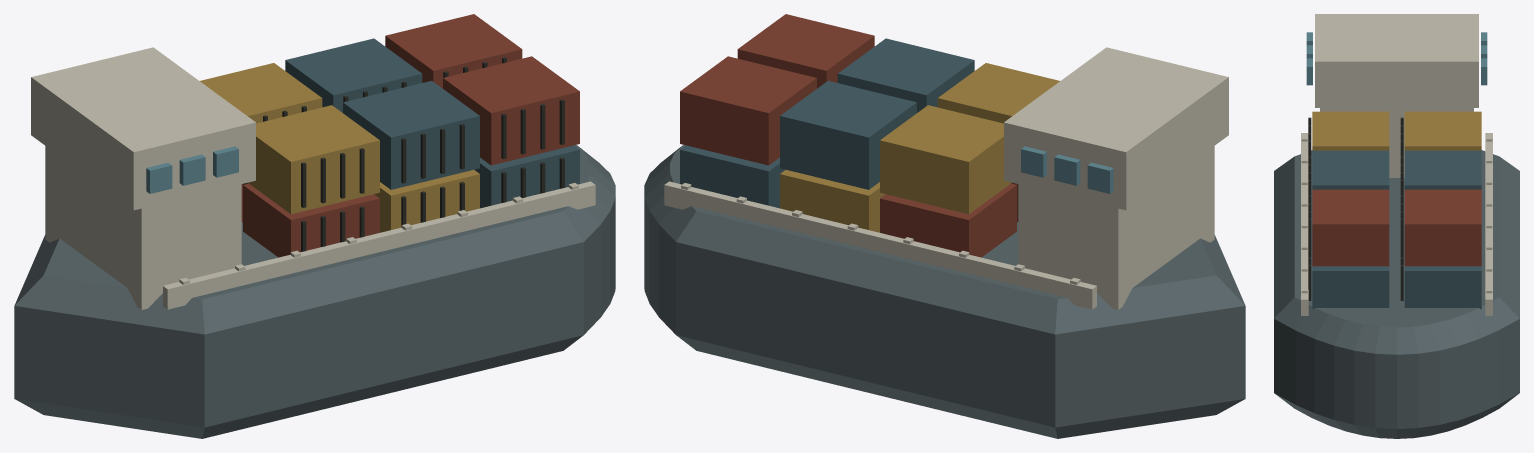
File: custom-vehicle-konteyner.glb
3 renders of one model, left to right at view 1: azimuth 30°, elevation 25°; view 2: azimuth 150°, elevation 25°; view 3: azimuth 270°, elevation 25°, orthographic. The views are drawn at different scales.
Visible parts, largest first — view 1: custom-vehicle-konteyner; view 2: custom-vehicle-konteyner; view 3: custom-vehicle-konteyner.
Boxes of the visible parts, x1=… form: custom-vehicle-konteyner: x1=14, y1=14, x2=615, y2=438; custom-vehicle-konteyner: x1=644, y1=14, x2=1245, y2=438; custom-vehicle-konteyner: x1=1274, y1=14, x2=1519, y2=438.
Size of the model in its own units: 1 by 0.4749 by 0.4559.
